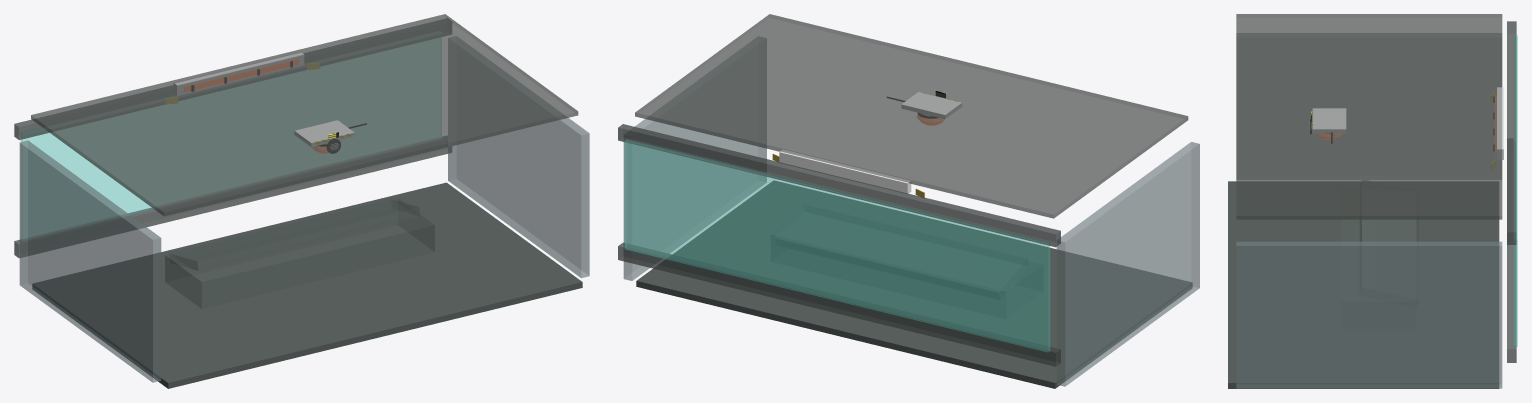
File: ck_warn04.glb
3 renders of one model, left to right at view 1: azimuth 30°, elevation 25°; view 2: azimuth 150°, elevation 25°; view 3: azimuth 270°, elevation 25°, orthographic.
Parts seen in each view (by area): view 1: cockpit floor footprint proxy, cockpit ceiling proxy, left cockpit wall proxy, right cockpit wall proxy, approved low console placement ghost, front broad screen proxy CK-01, front lower sill proxy, console sloped deck ghost, front upper frame proxy, upper frame narrow red alarm bar housing, central ceiling emergency rotary beacon rectangular ceiling , upper frame red alarm bar glass; view 2: cockpit ceiling proxy, cockpit floor footprint proxy, front broad screen proxy CK-01, left cockpit wall proxy, right cockpit wall proxy, console sloped deck ghost, front lower sill proxy, front upper frame proxy, approved low console placement ghost, upper frame narrow red alarm bar housing, central ceiling emergency rotary beacon rectangular ceiling ; view 3: cockpit ceiling proxy, cockpit floor footprint proxy, right cockpit wall proxy, left cockpit wall proxy, approved low console placement ghost, console sloped deck ghost, front upper frame proxy, front lower sill proxy, front broad screen proxy CK-01, central ceiling emergency rotary beacon rectangular ceiling , upper frame narrow red alarm bar housing.
Boxes of the visible parts, x1,y1,x2,y2 form: cockpit floor footprint proxy: [32, 182, 582, 388]; cockpit ceiling proxy: [31, 14, 578, 216]; left cockpit wall proxy: [19, 140, 161, 382]; right cockpit wall proxy: [448, 36, 589, 278]; approved low console placement ghost: [165, 198, 434, 308]; front broad screen proxy CK-01: [20, 128, 152, 238]; front lower sill proxy: [14, 136, 451, 258]; console sloped deck ghost: [169, 199, 420, 270]; front upper frame proxy: [14, 18, 451, 139]; upper frame narrow red alarm bar housing: [174, 52, 303, 95]; central ceiling emergency rotary beacon rectangular ceiling : [294, 120, 354, 146]; upper frame red alarm bar glass: [184, 59, 298, 91]; cockpit ceiling proxy: [635, 14, 1188, 218]; cockpit floor footprint proxy: [636, 180, 1192, 388]; front broad screen proxy CK-01: [624, 139, 1050, 352]; left cockpit wall proxy: [1056, 142, 1199, 386]; right cockpit wall proxy: [623, 37, 766, 280]; console sloped deck ghost: [774, 204, 1028, 299]; front lower sill proxy: [618, 242, 1060, 366]; front upper frame proxy: [618, 124, 1060, 247]; approved low console placement ghost: [771, 223, 1043, 318]; upper frame narrow red alarm bar housing: [779, 149, 911, 193]; central ceiling emergency rotary beacon rectangular ceiling : [901, 92, 961, 118]; cockpit ceiling proxy: [1236, 14, 1502, 219]; cockpit floor footprint proxy: [1228, 181, 1499, 388]; right cockpit wall proxy: [1236, 241, 1502, 388]; left cockpit wall proxy: [1237, 33, 1501, 179]; approved low console placement ghost: [1341, 189, 1414, 328]; console sloped deck ghost: [1359, 179, 1418, 307]; front upper frame proxy: [1507, 21, 1516, 244]; front lower sill proxy: [1507, 139, 1516, 362]; front broad screen proxy CK-01: [1514, 35, 1517, 346]; central ceiling emergency rotary beacon rectangular ceiling : [1312, 108, 1346, 132]; upper frame narrow red alarm bar housing: [1497, 87, 1503, 159].
Bounding box in the file's own units: 9.28 × 3.54 × 5.34.
Materials: 13 (1 with a texture image).
